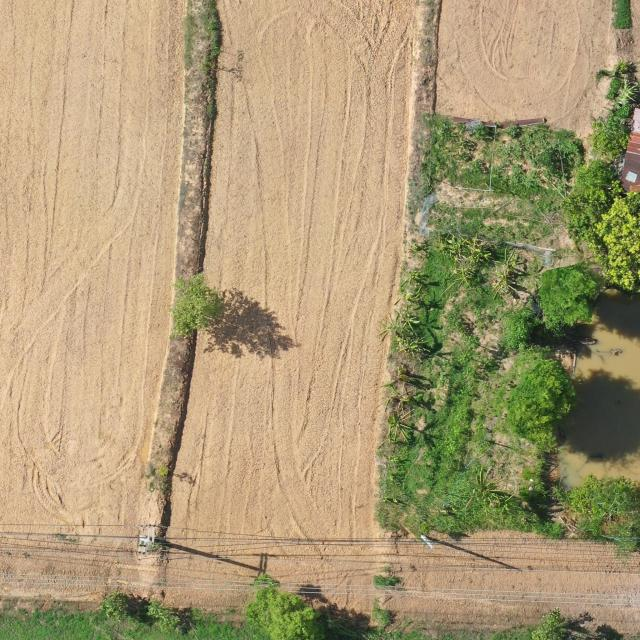Tree: (506, 357, 577, 450), (245, 572, 325, 640), (564, 158, 618, 254), (593, 190, 640, 294), (538, 260, 601, 334), (167, 271, 221, 341), (464, 465, 517, 516), (588, 104, 634, 160), (492, 246, 527, 299), (499, 308, 540, 353), (146, 600, 181, 634), (100, 592, 133, 624), (387, 408, 415, 445), (378, 312, 405, 343), (394, 286, 430, 308), (450, 262, 476, 289), (401, 333, 429, 357), (400, 266, 428, 288)
